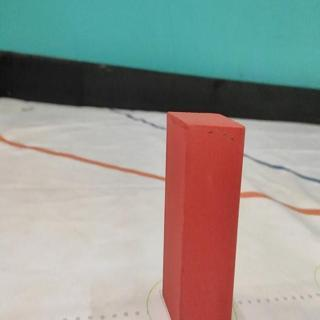redbox: (161, 110, 246, 320)
